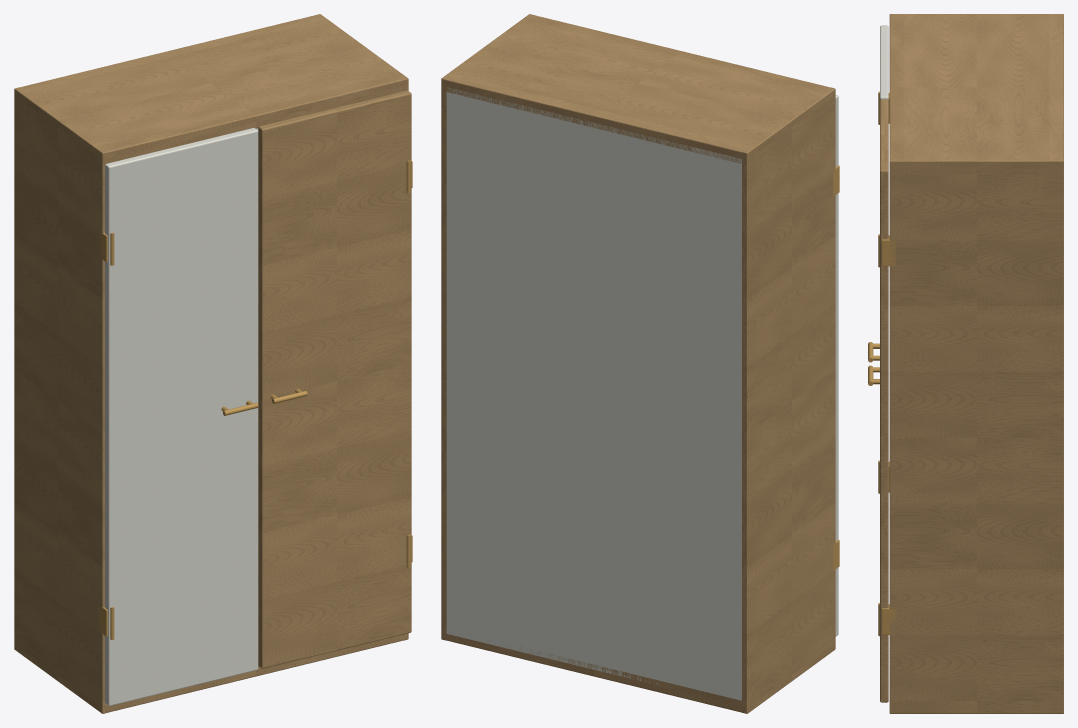
The picture shows the model from 3 angles, left to right: view 1: azimuth 30°, elevation 25°; view 2: azimuth 150°, elevation 25°; view 3: azimuth 270°, elevation 25°; orthographic projection.
Parts seen in each view (by area): view 1: Wardrobe door.001, Wardrobe door, Cabinet side, Cabinet top bottom.001, Cabinet top bottom; view 2: Cabinet back, Cabinet side, Cabinet top bottom.001, Cabinet top bottom, Cabinet side.001, Wardrobe door; view 3: Cabinet side.001, Cabinet top bottom.001, Wardrobe door.001, Cabinet top bottom, Wardrobe door, Wardrobe hinge bridge.003, Wardrobe hinge bridge.002.
Boxes of the visible parts, x1,y1,x2,y2 form: Wardrobe door.001: (258,90,411,668); Wardrobe door: (105,128,258,706); Cabinet side: (14,87,108,713); Cabinet top bottom.001: (14,14,407,164); Cabinet top bottom: (14,633,407,712); Cabinet back: (446,87,741,700); Cabinet side: (741,87,835,713); Cabinet top bottom.001: (442,14,835,164); Cabinet top bottom: (442,628,835,712); Cabinet side.001: (441,14,534,640); Wardrobe door: (835,95,838,636); Cabinet side.001: (889,158,1063,713); Cabinet top bottom.001: (889,14,1063,173); Wardrobe door.001: (880,99,888,702); Cabinet top bottom: (890,704,1062,713); Wardrobe door: (880,25,888,99); Wardrobe hinge bridge.003: (881,235,895,266); Wardrobe hinge bridge.002: (881,604,895,634).
Size of the model in its own units: 1.2 by 2.1 by 0.674.
3 materials, 3 textured.
